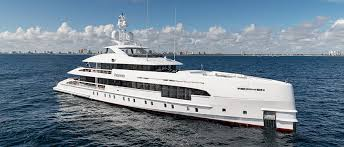tau_dansu: (58, 22, 300, 133)
